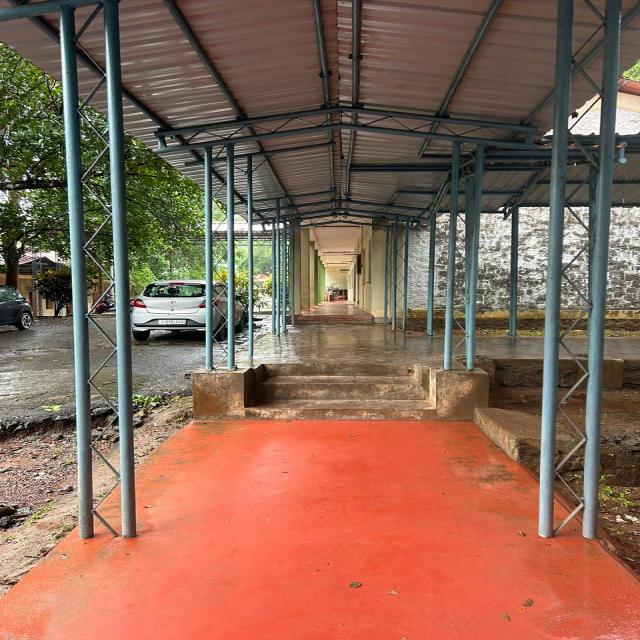pillar ahead at: (45, 4, 150, 543), (531, 0, 627, 548), (187, 144, 245, 419), (440, 131, 490, 428)
stairs ahead at: (246, 365, 436, 420)
